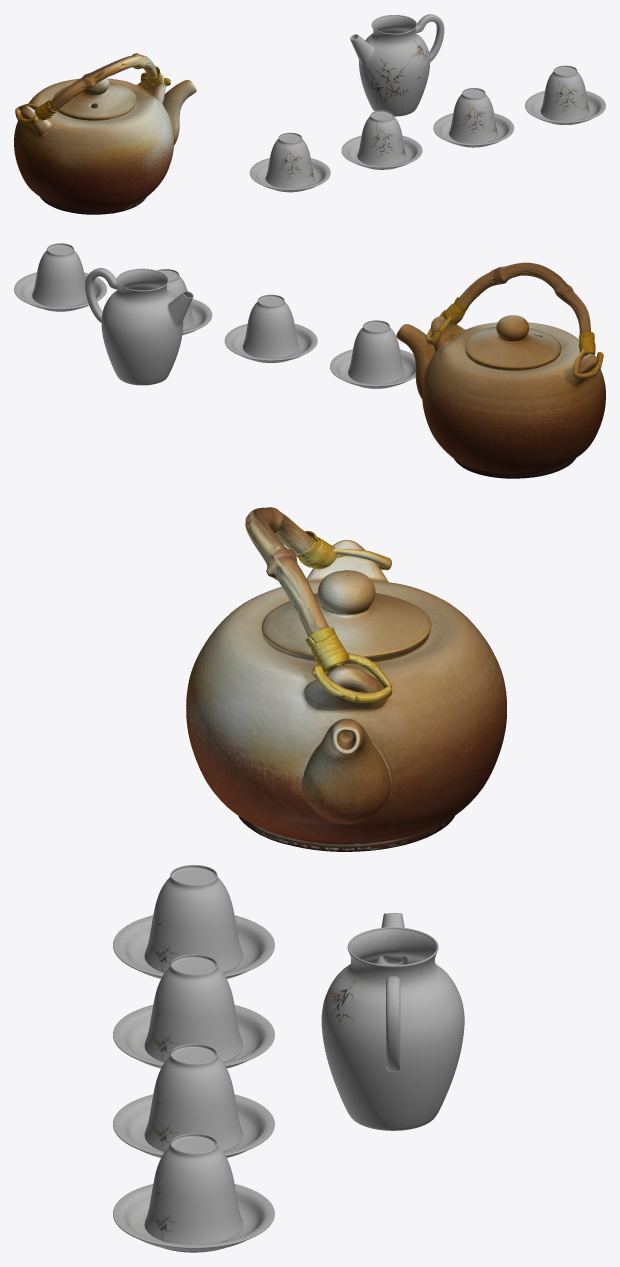
The model's file is chajuzuhe.glb.
3 renders of one model, top to bottom at view 1: azimuth 30°, elevation 25°; view 2: azimuth 150°, elevation 25°; view 3: azimuth 270°, elevation 25°, orthographic. The views are drawn at different scales.
Parts seen in each view (by area): view 1: zishahu, putonggaiwan (×4), qinghuacihu; view 2: zishahu, putonggaiwan (×4), qinghuacihu; view 3: zishahu, putonggaiwan (×4), qinghuacihu.
Part boxes in pixels (x1,y1,x2,y2): zishahu: (14,53,196,214); putonggaiwan (×4): (249,65,605,192); qinghuacihu: (350,14,444,116); zishahu: (396,262,605,478); putonggaiwan (×4): (14,243,415,388); qinghuacihu: (85,268,193,385); zishahu: (186,507,506,851); putonggaiwan (×4): (113,865,274,1252); qinghuacihu: (321,913,464,1130).
Size of the model in its own units: 1.02 by 0.265 by 0.3217.
Materials: 2 (2 with a texture image).
